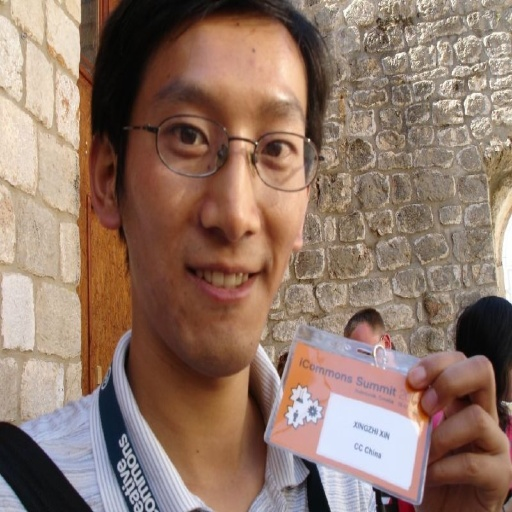hand: (418, 369, 511, 502)
